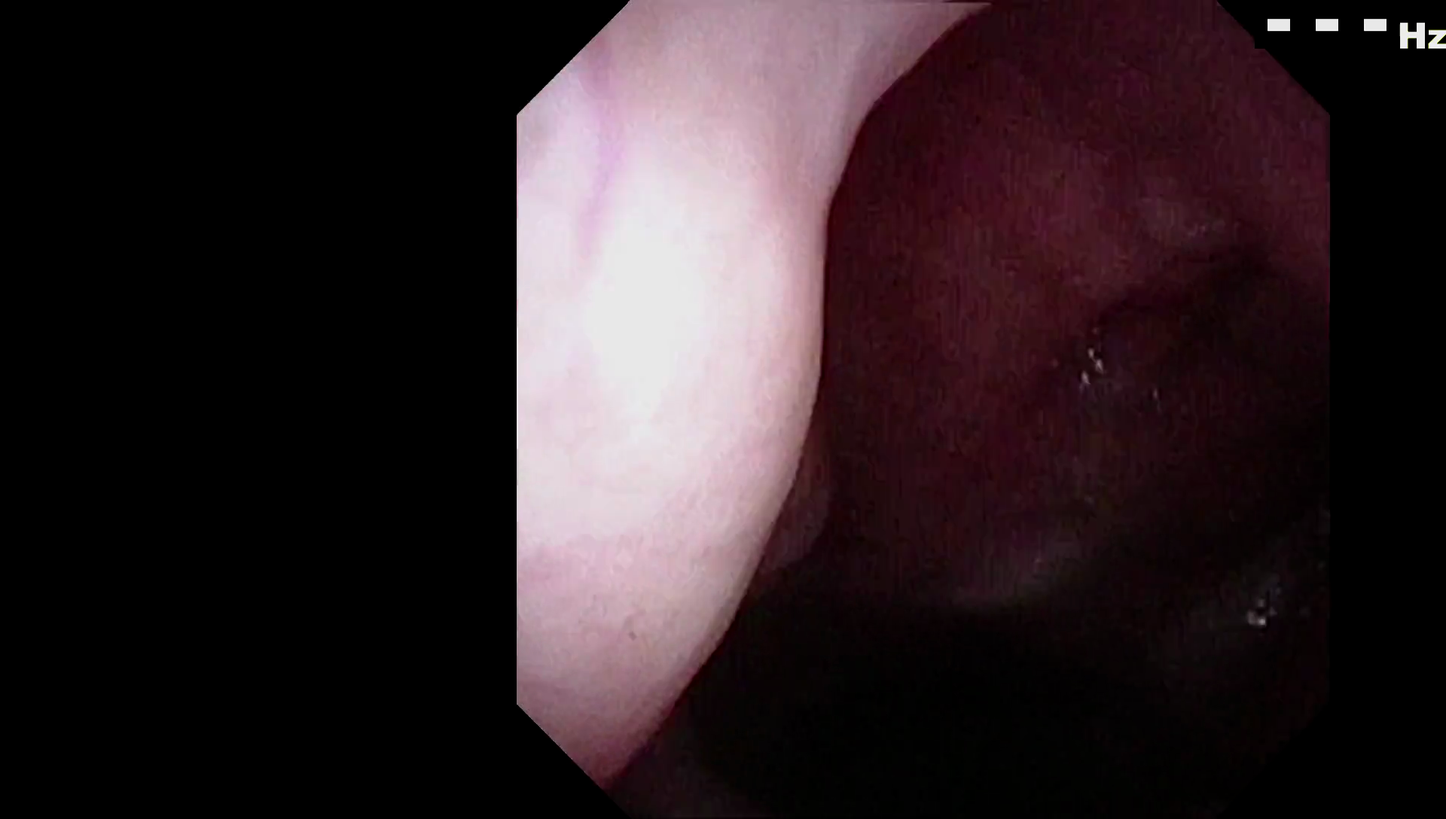close_wall: (538, 55, 849, 698)
next: (646, 467, 1236, 819)
